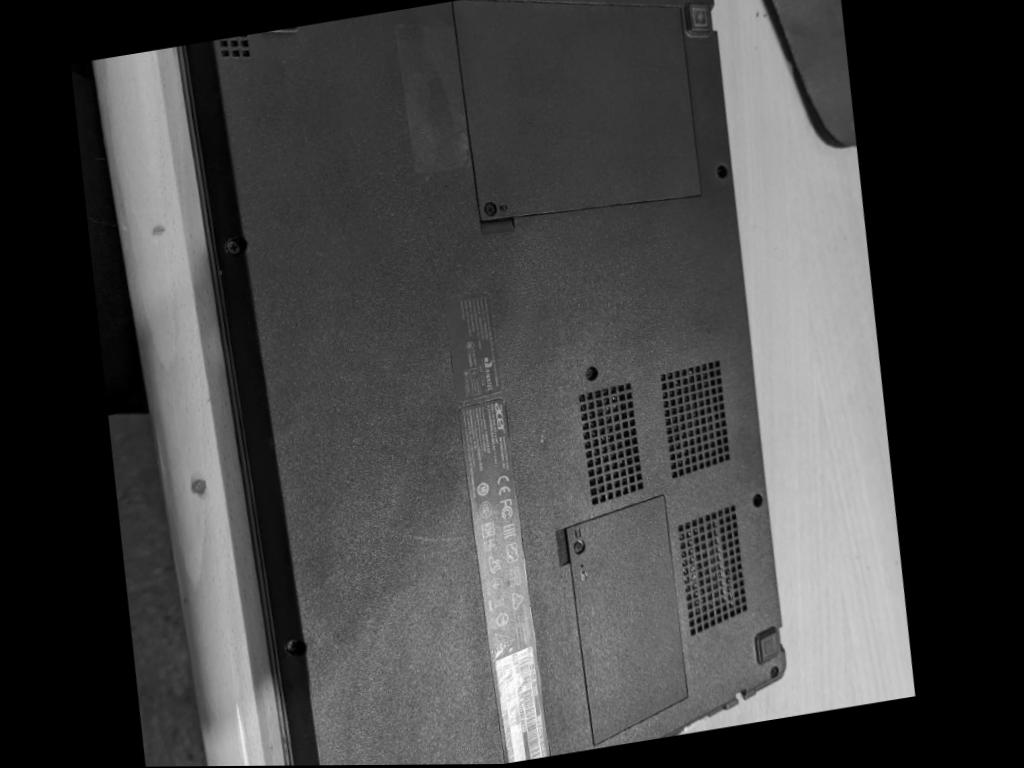scratch: (376, 519, 479, 547), (541, 431, 550, 445)
stain: (394, 24, 471, 175)
